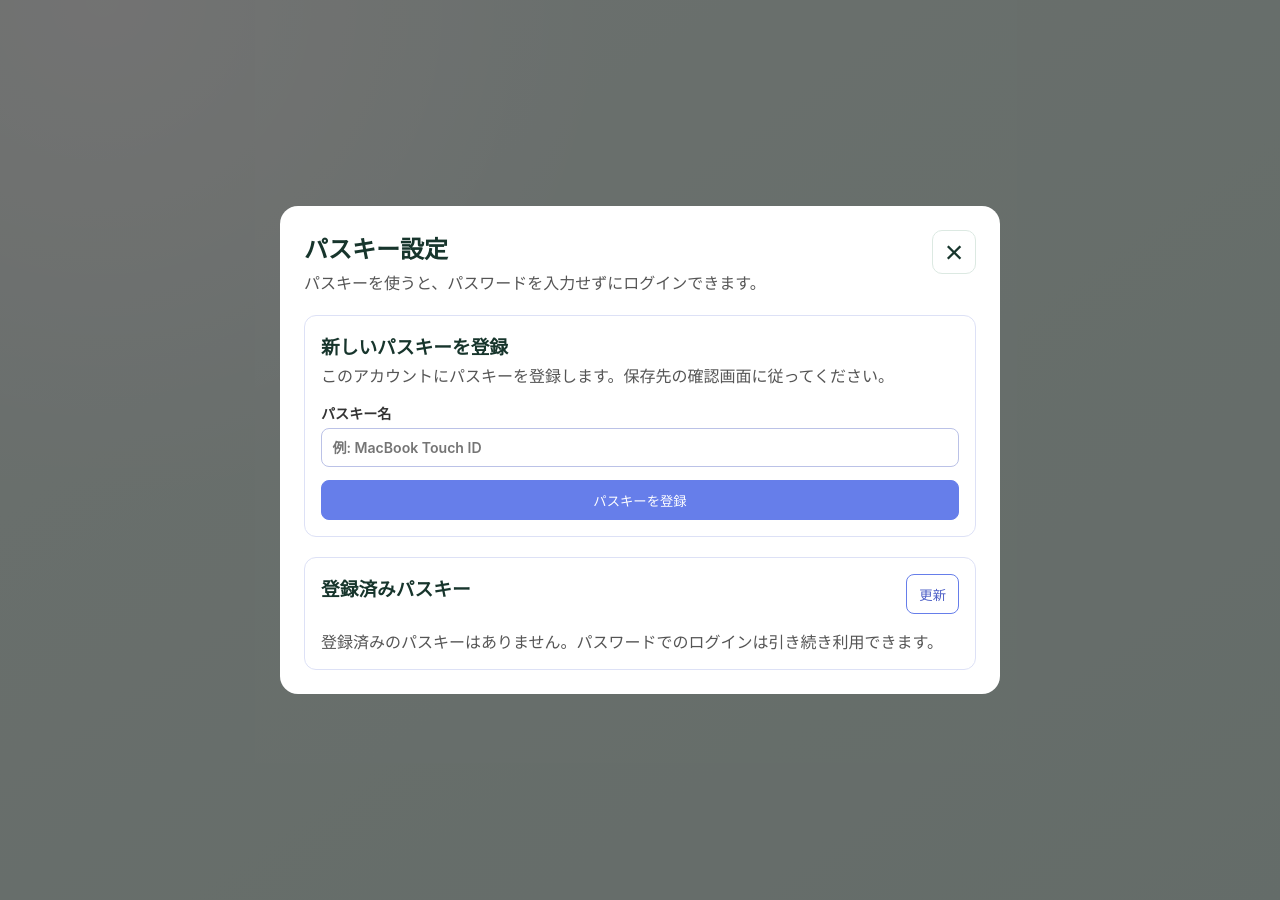
Test: PasskeySettingsModal › reports registration failure without requesting a password
The image size is (1280, 900).
In the field labelled "パスキー名": coordinates (640, 447) 321,428 -> 959,467, type "MacBook"
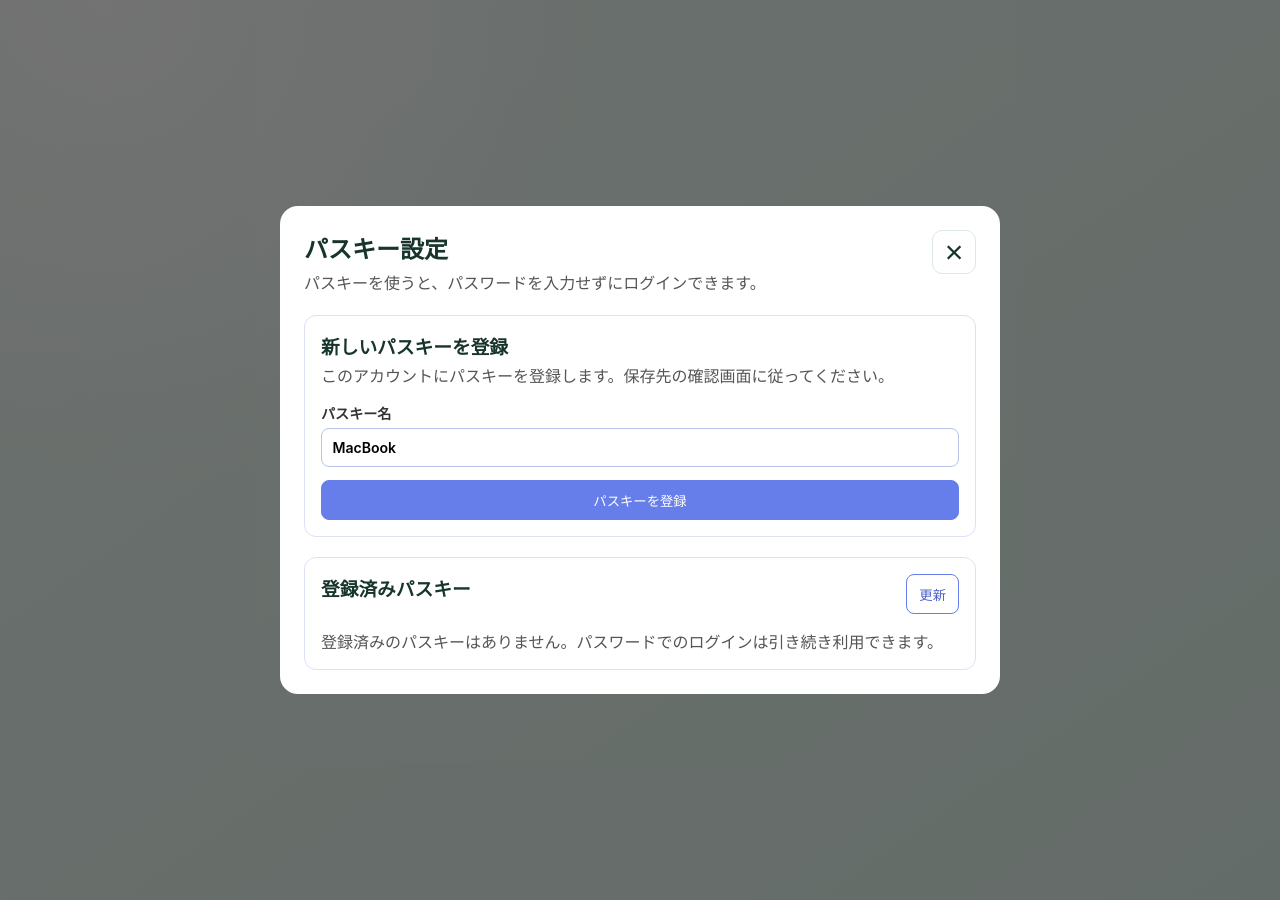
Submit the form with class "registration-form", box 321,403 -> 959,520
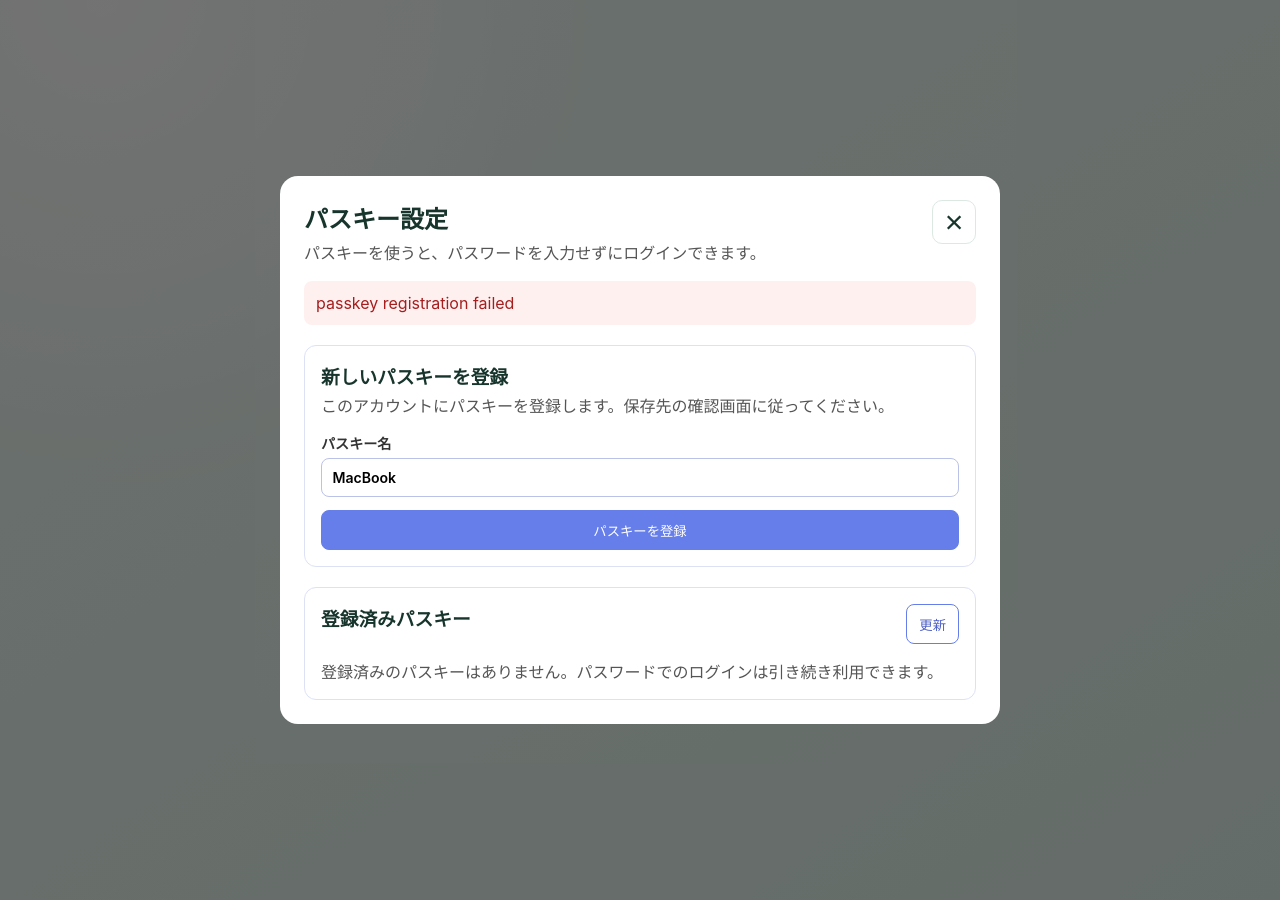
Result: the message "passkey registration failed" is shown at 304,281 -> 976,325
